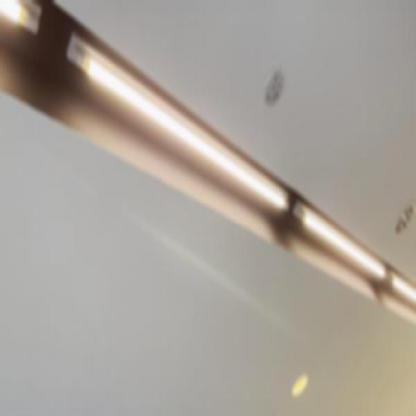light_on: (56, 26, 294, 220), (296, 164, 388, 291), (0, 0, 46, 43), (384, 265, 416, 310)
